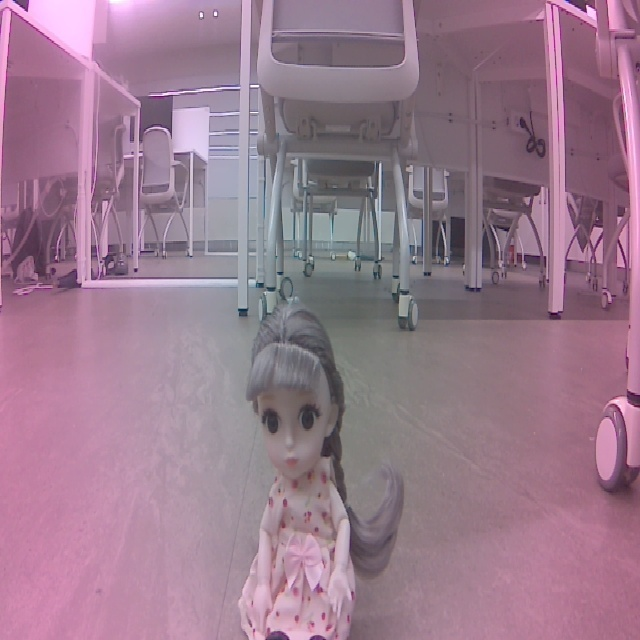장애물: (236, 297, 405, 640)
